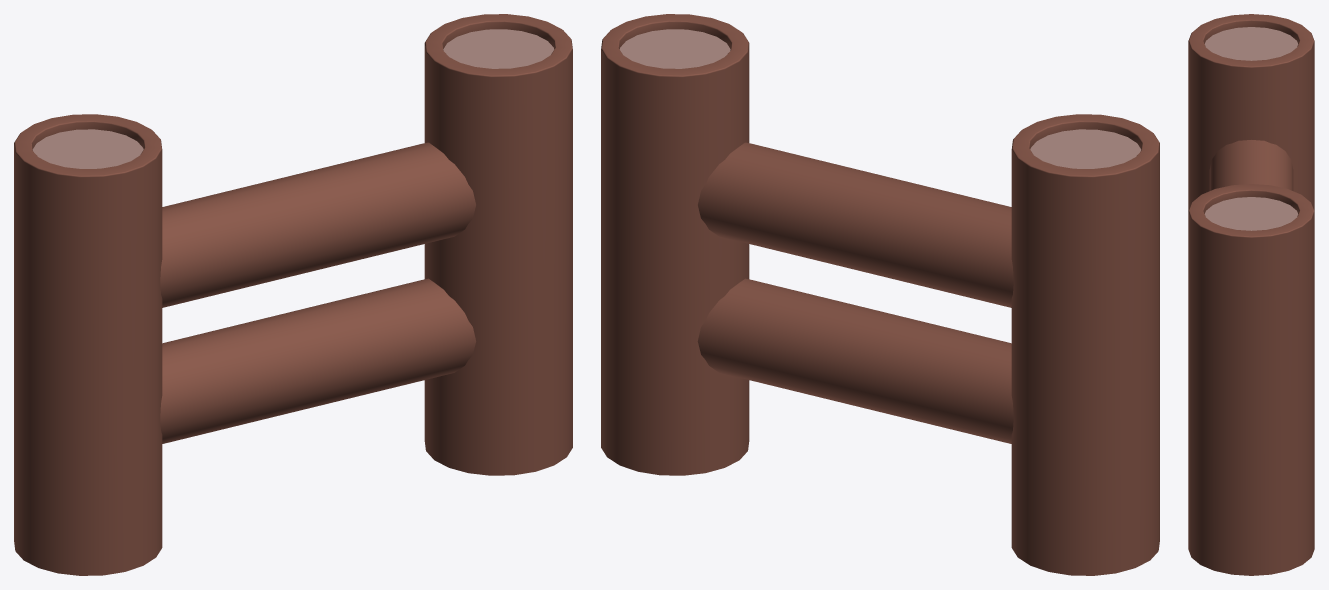
The model's file is Farm_18_Fence_1.glb.
3 views of the same model, side by side, from view 1: azimuth 30°, elevation 25°; view 2: azimuth 150°, elevation 25°; view 3: azimuth 270°, elevation 25° (orthographic). The views are drawn at different scales.
Parts seen in each view (by area): view 1: Farm_18_Fence_1; view 2: Farm_18_Fence_1; view 3: Farm_18_Fence_1.
Part boxes in pixels (x1,y1,x2,y2): Farm_18_Fence_1: [14, 14, 572, 575]; Farm_18_Fence_1: [601, 14, 1159, 575]; Farm_18_Fence_1: [1188, 14, 1314, 575].
Bounding box in the file's own units: 1.63 × 1.16 × 0.3902.
Materials: 1 (1 with a texture image).
